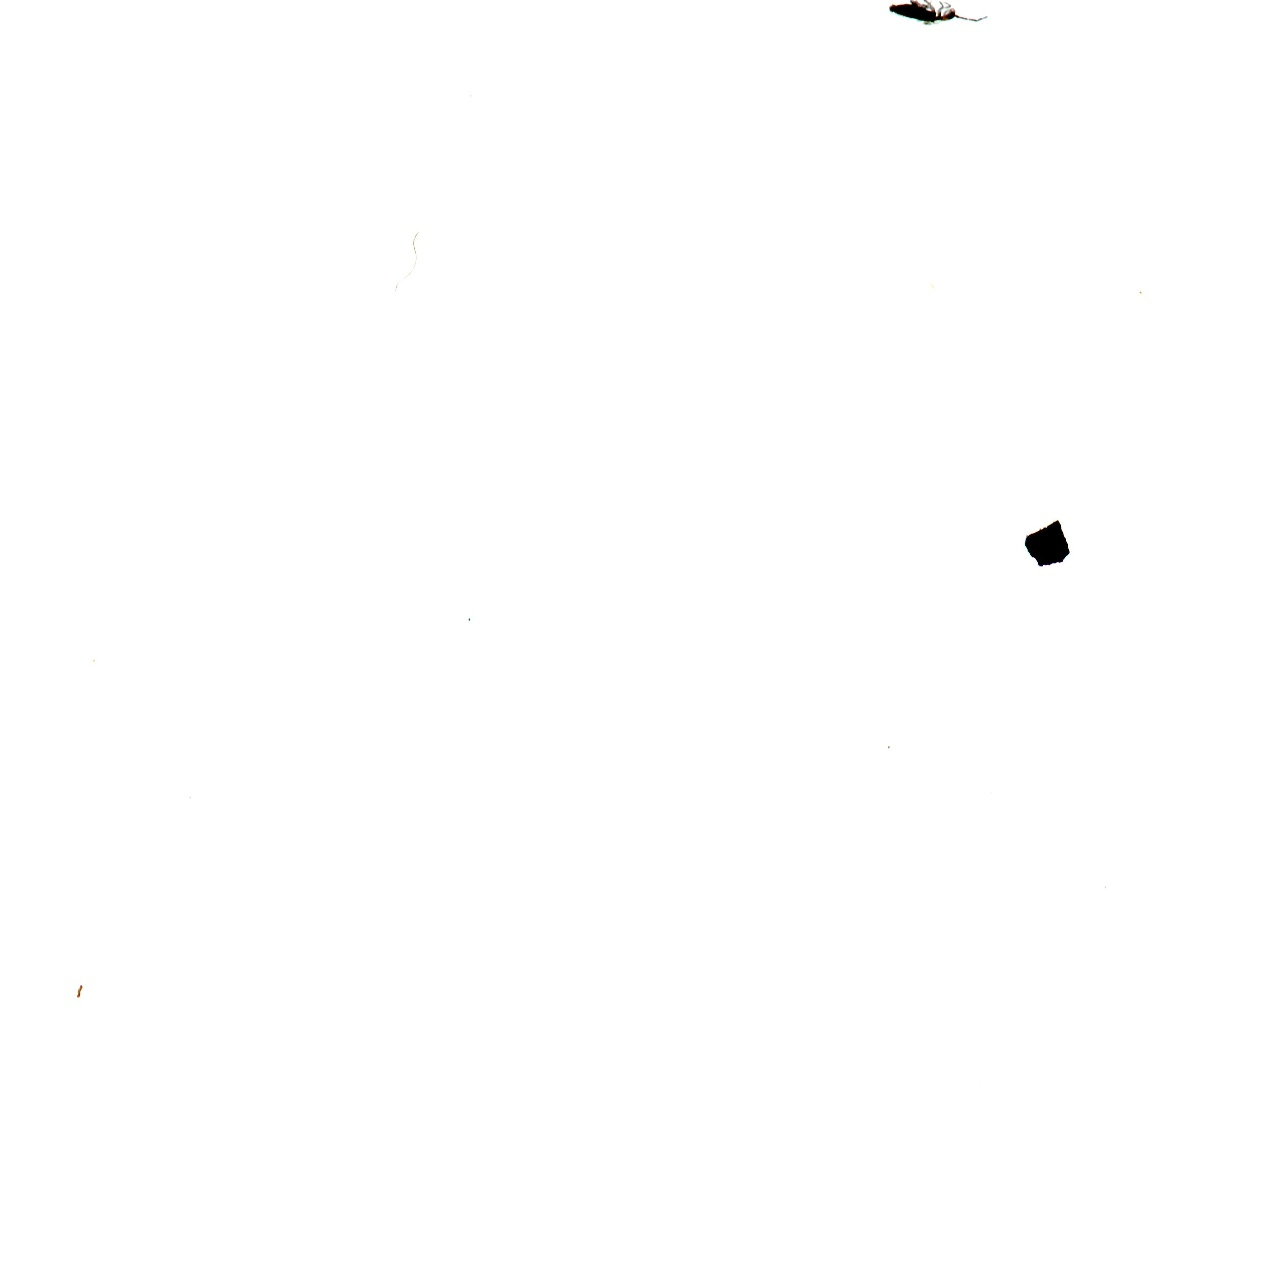arthropod: (876, 0, 995, 29)
